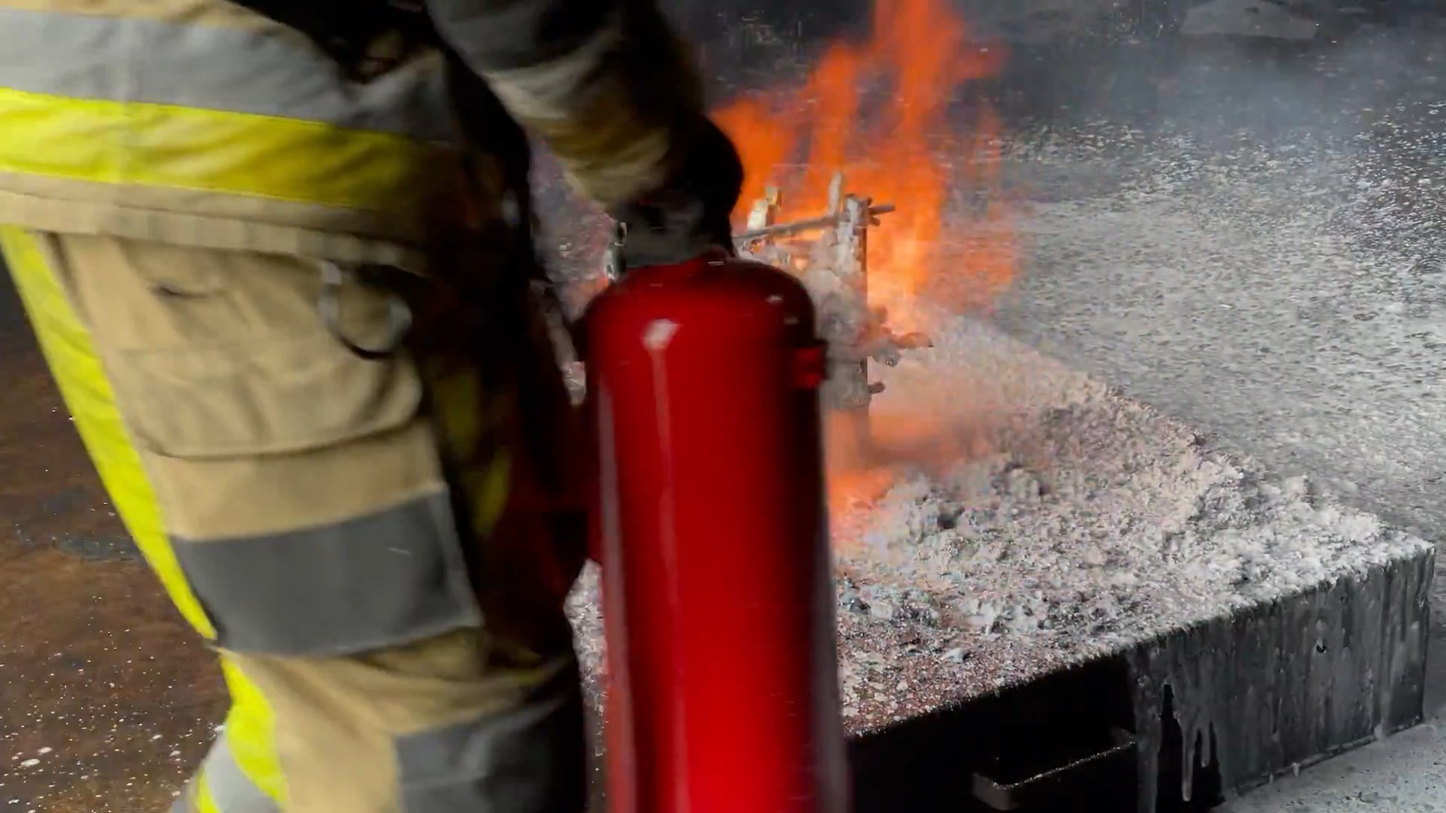fire: (707, 0, 1017, 560)
